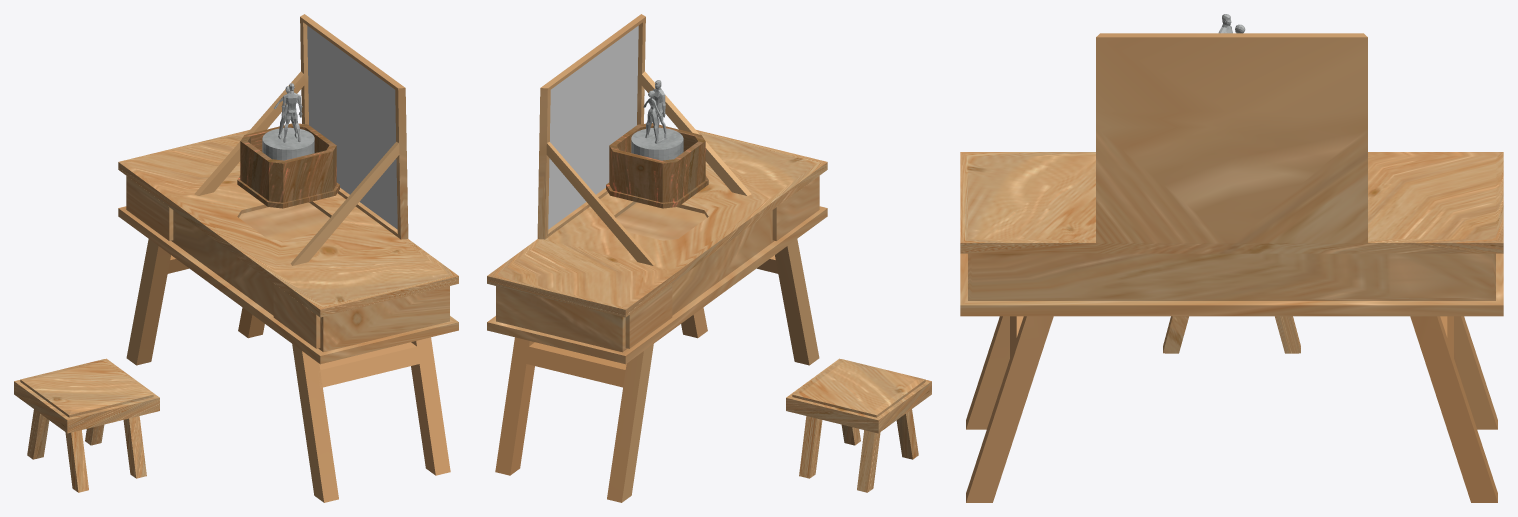
Rendered from mesa_com_bonecos_prata.fbx.
3 views of the same model, side by side, from view 1: azimuth 30°, elevation 25°; view 2: azimuth 150°, elevation 25°; view 3: azimuth 270°, elevation 25° (orthographic). The views are drawn at different scales.
Parts seen in each view (by area): view 1: MESA, CADEIRAACENTO, CAIXA, CADEIRABASE, BASECAIXA, MeshPersonagem1; view 2: MESA, CADEIRAACENTO, CAIXA, CADEIRABASE, BASECAIXA, MeshPersonagem2; view 3: MESA, CADEIRABASE.
Boxes of the visible parts, x1=… form: MESA: x1=118, y1=14, x2=458, y2=502; CADEIRAACENTO: x1=14, y1=358, x2=159, y2=433; CAIXA: x1=237, y1=123, x2=339, y2=208; CADEIRABASE: x1=27, y1=409, x2=146, y2=492; BASECAIXA: x1=262, y1=127, x2=314, y2=160; MeshPersonagem1: x1=281, y1=83, x2=302, y2=142; MESA: x1=487, y1=14, x2=827, y2=502; CADEIRAACENTO: x1=786, y1=358, x2=931, y2=433; CAIXA: x1=606, y1=123, x2=708, y2=208; CADEIRABASE: x1=799, y1=409, x2=918, y2=492; BASECAIXA: x1=631, y1=127, x2=683, y2=160; MeshPersonagem2: x1=643, y1=90, x2=662, y2=143; MESA: x1=960, y1=33, x2=1503, y2=502; CADEIRABASE: x1=1163, y1=316, x2=1300, y2=353.
Size of the model in its own units: 6.85 by 7.21 by 7.56.
Materials: 4 (3 with a texture image).
